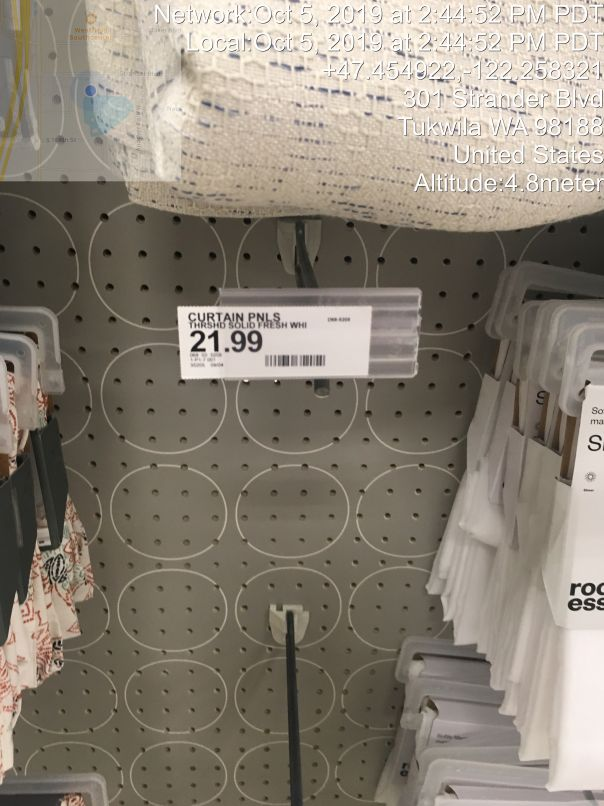Label: (169, 296, 387, 391)
Location: (392, 86, 604, 170)
Time: (143, 3, 604, 59)
Void: (136, 375, 403, 757)
